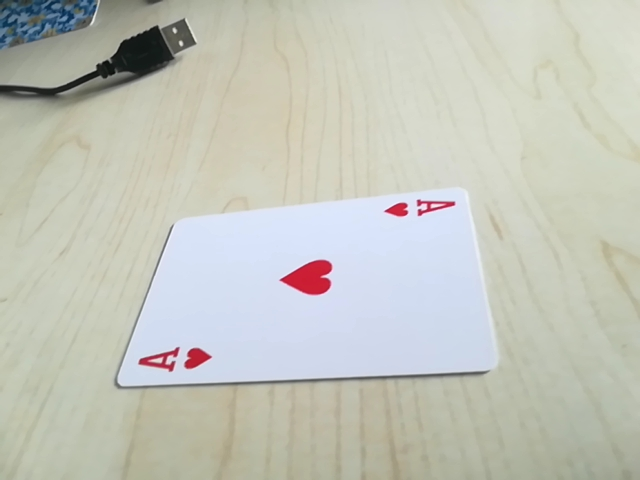hx a: (131, 339, 219, 380), (380, 192, 461, 226)
